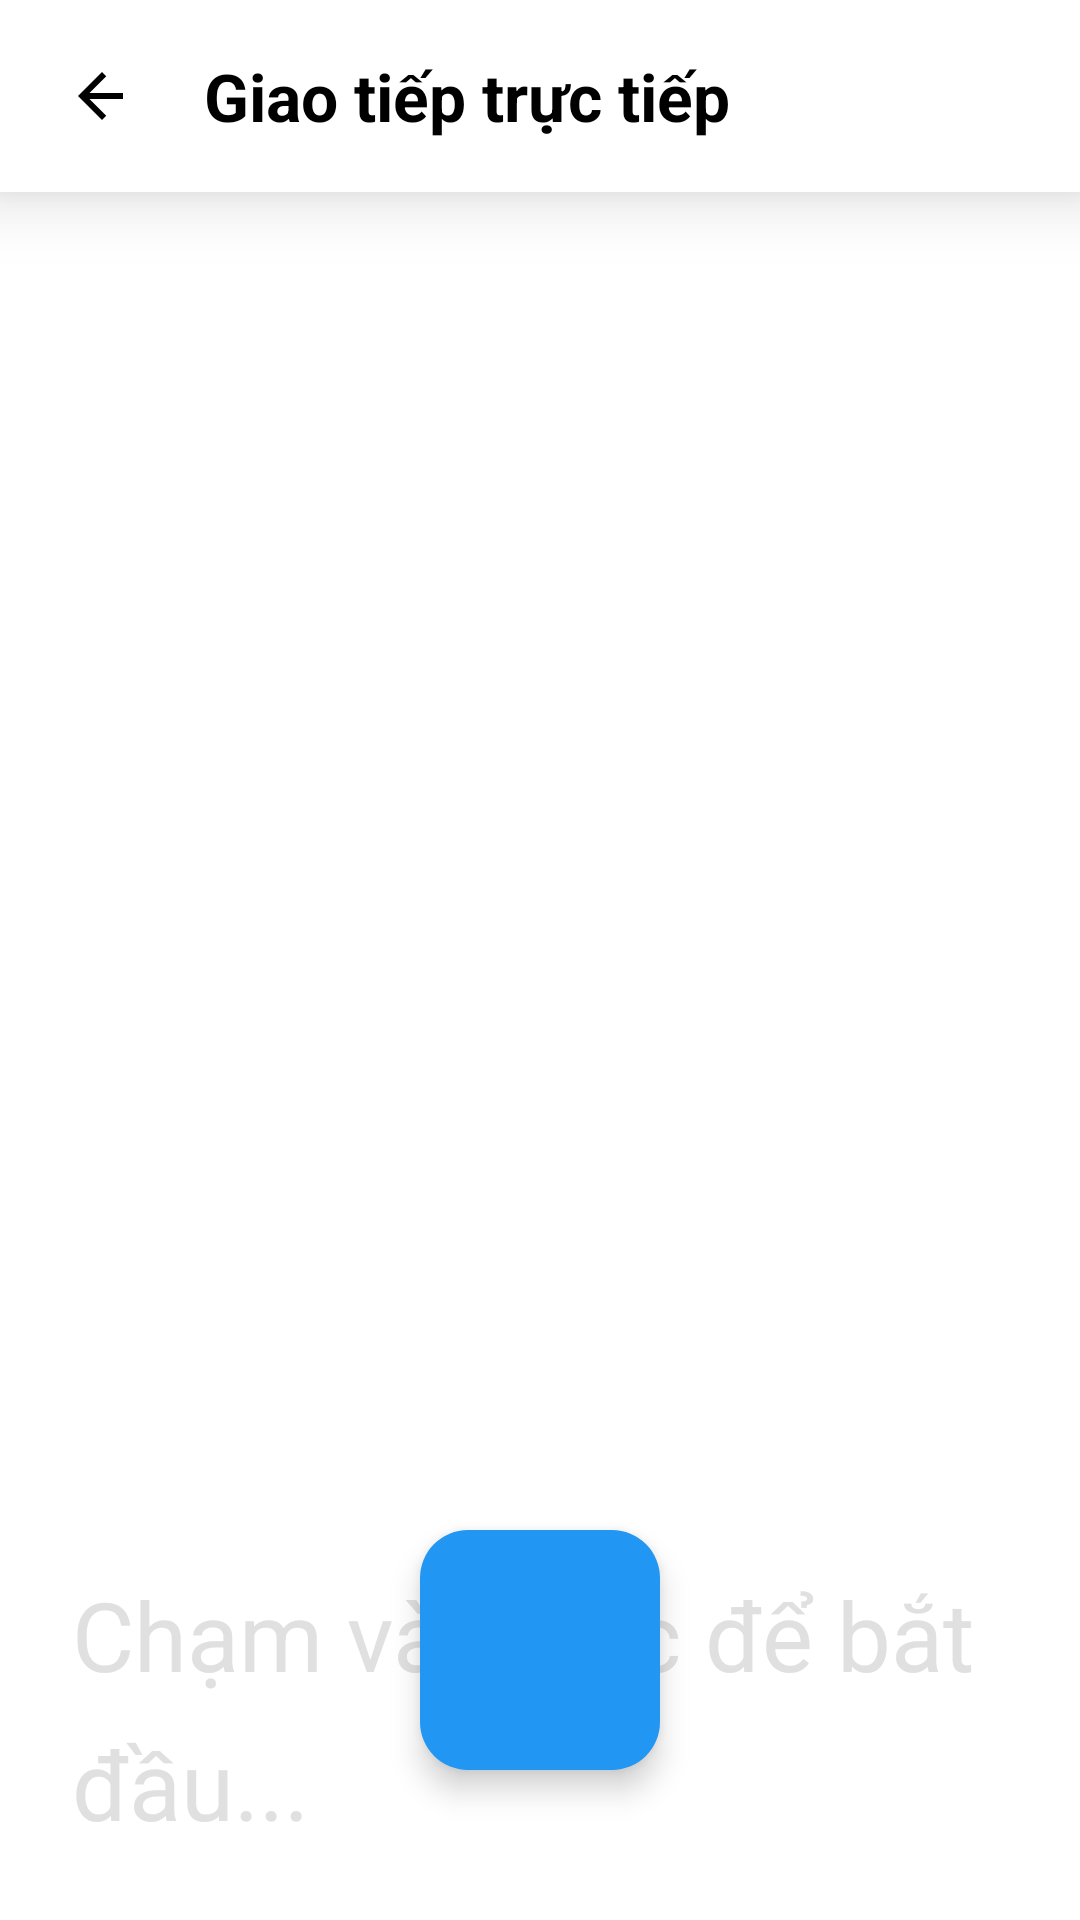

Screen size 1080px×1920px. Icon name, then its box in pixels as Rect(x1, y1, x2, y2):
Quay lại: Rect(78, 72, 123, 120)
